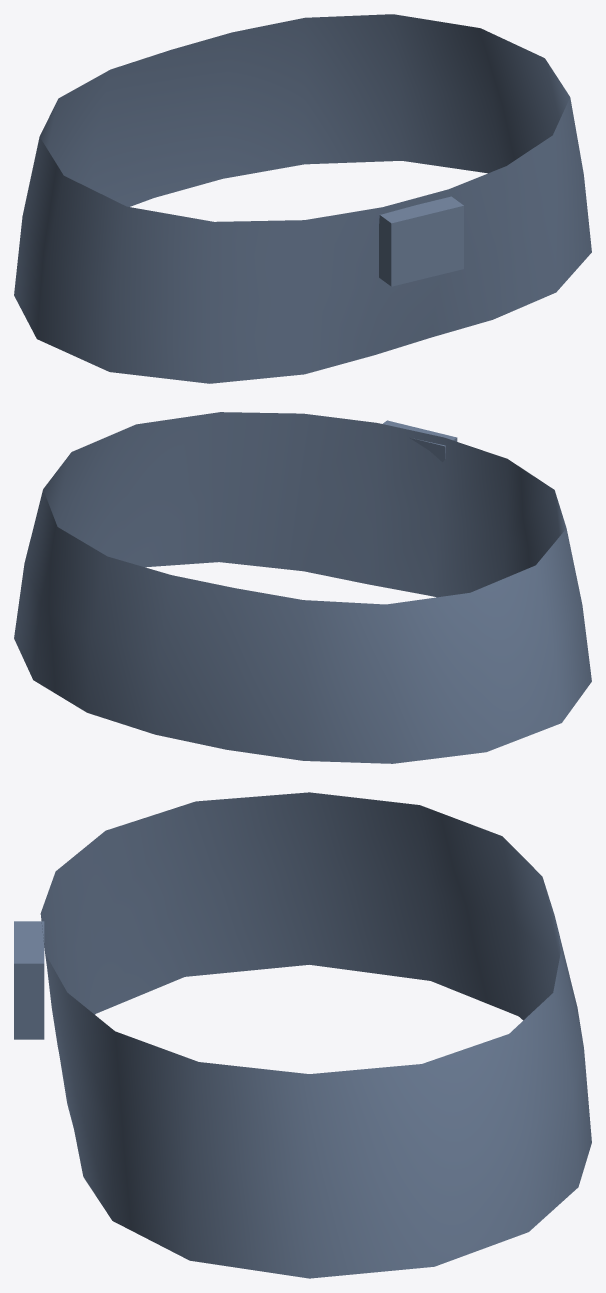
Rendered from titanium_armor_belt.glb.
The picture shows the model from 3 angles, top to bottom: view 1: azimuth 30°, elevation 25°; view 2: azimuth 150°, elevation 25°; view 3: azimuth 270°, elevation 25°; orthographic projection. The views are drawn at different scales.
Parts seen in each view (by area): view 1: titanium_armor_belt; view 2: titanium_armor_belt; view 3: titanium_armor_belt.
Part boxes in pixels (bbox=[...]): titanium_armor_belt: bbox=[14, 14, 591, 383]; titanium_armor_belt: bbox=[14, 412, 591, 763]; titanium_armor_belt: bbox=[14, 792, 591, 1278].
Bounding box in the file's own units: 0.4427 × 0.1238 × 0.3446.
